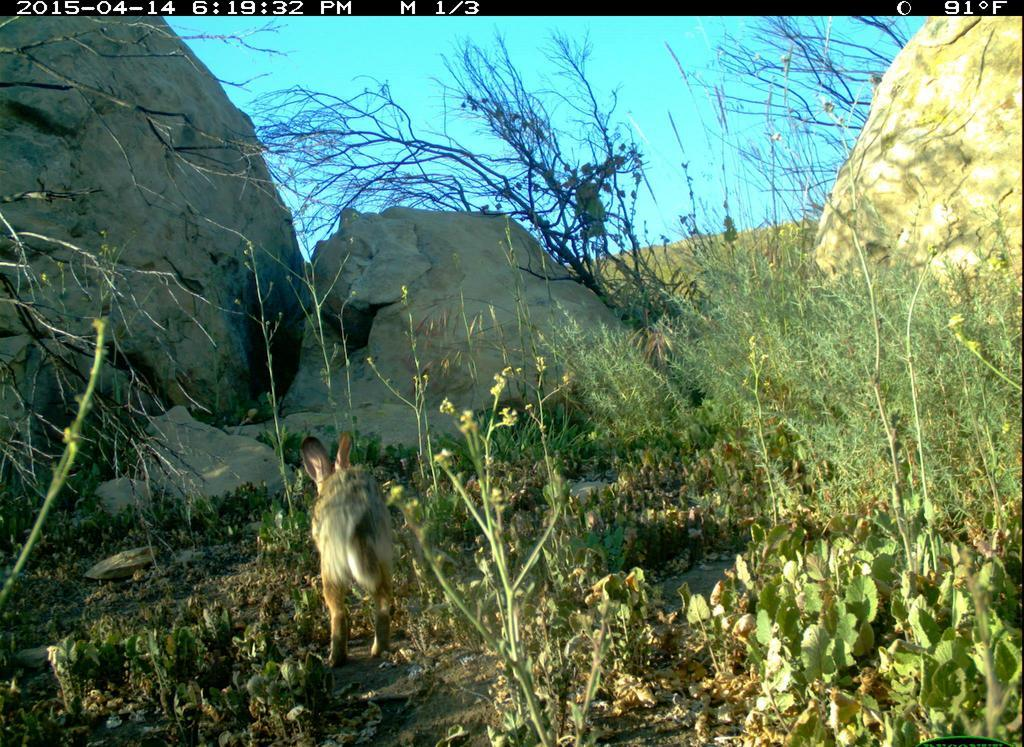rabbit: (292, 425, 413, 670)
